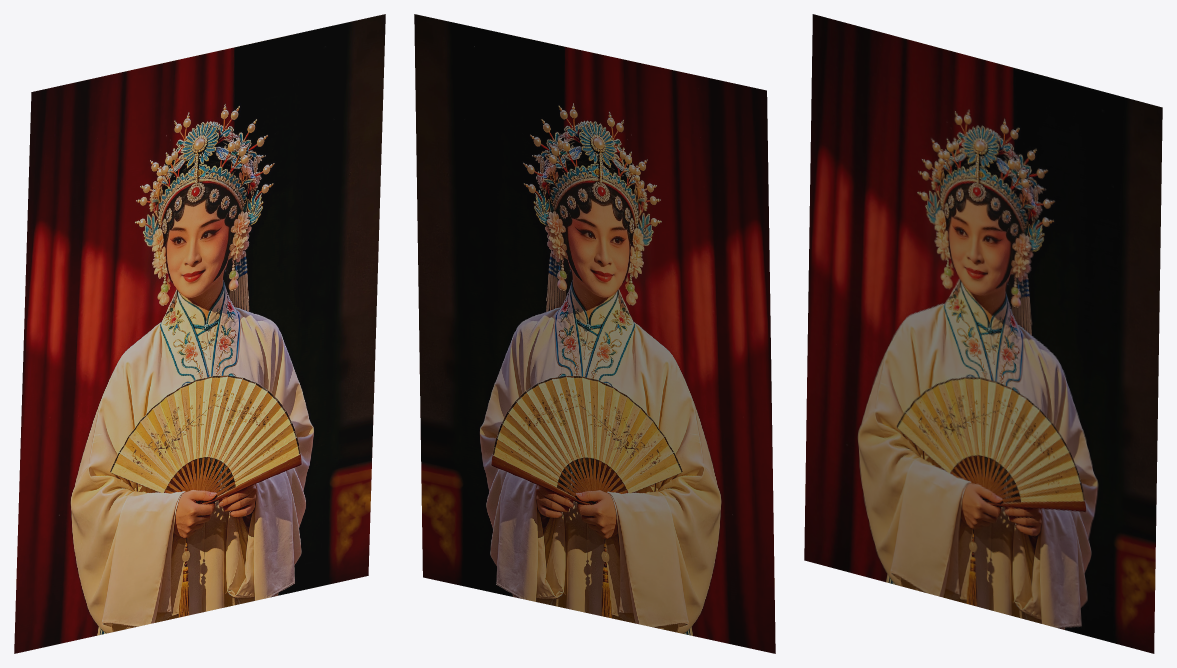
File: hao (1).glb
3 views of the same model, side by side, from view 1: azimuth 30°, elevation 25°; view 2: azimuth 150°, elevation 25°; view 3: azimuth 330°, elevation 25° (orthographic).
Visible parts, largest first — view 1: 平面; view 2: 平面; view 3: 平面.
Boxes of the visible parts, x1,y1,x2,y2 form: 平面: (14,14,385,653); 平面: (414,14,775,653); 平面: (804,14,1162,653).
Bounding box in the file's own units: 2.07 × 3.07 × 0.0483.
1 material, 1 textured.
